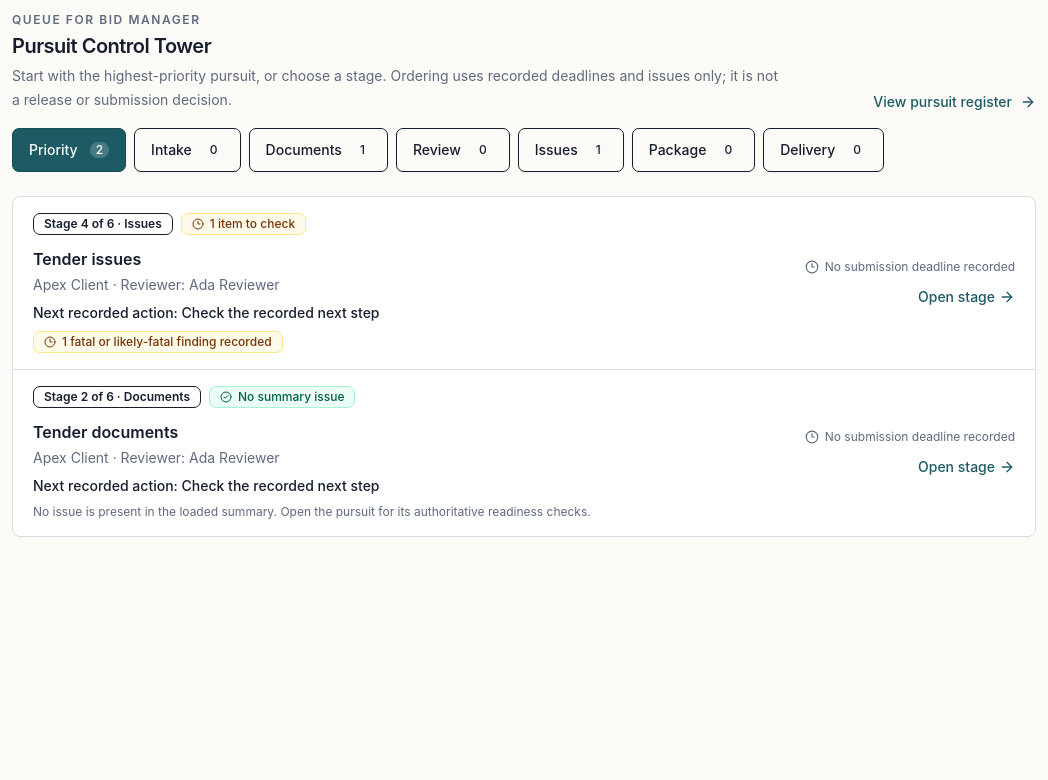
PursuitControlTower › shows a role-labelled priority queue and filters it by stage
The image size is (1048, 780).
Expected: the heading "Pursuit Control Tower" is shown, 12,34 -> 211,58
Expected: the text "Queue for Bid manager" is shown, 12,12 -> 201,27
Click the button with aria-label "Documents: 1 pursuit" at [318, 150], box 249,128 -> 388,172
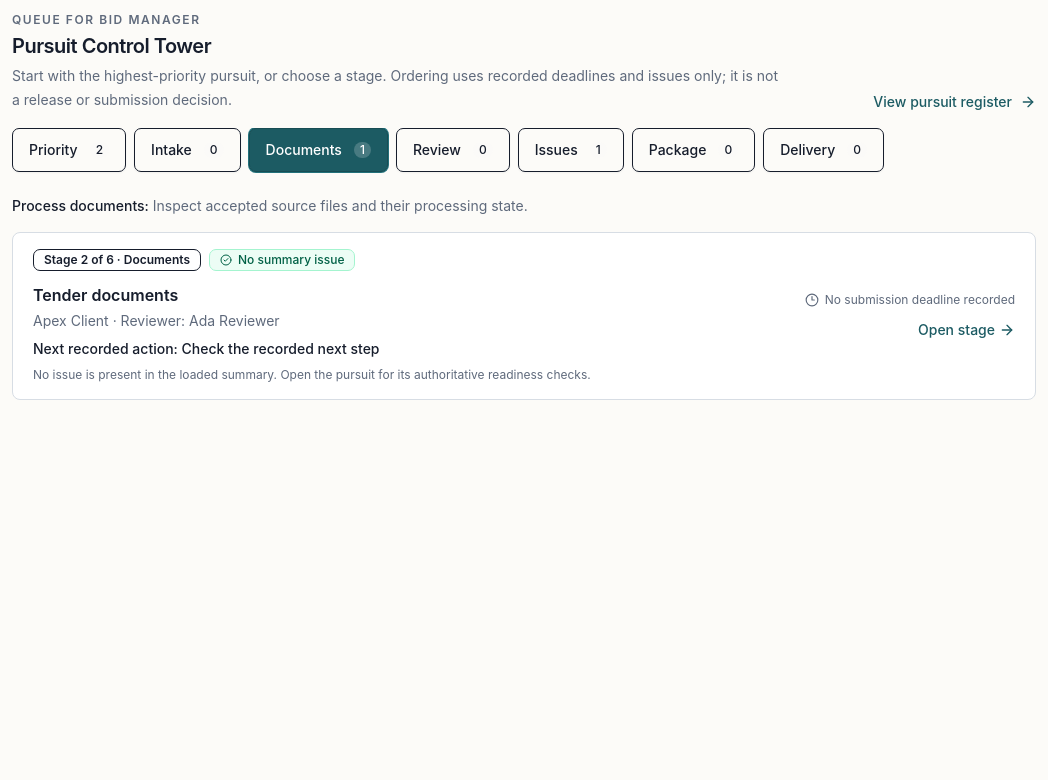
Expected: the heading "Tender documents" is shown, 33,285 -> 178,305
Result: the link "Tender issues" is gone
Result: the text "Inspect accepted source files" is shown at 153,197 -> 528,214
